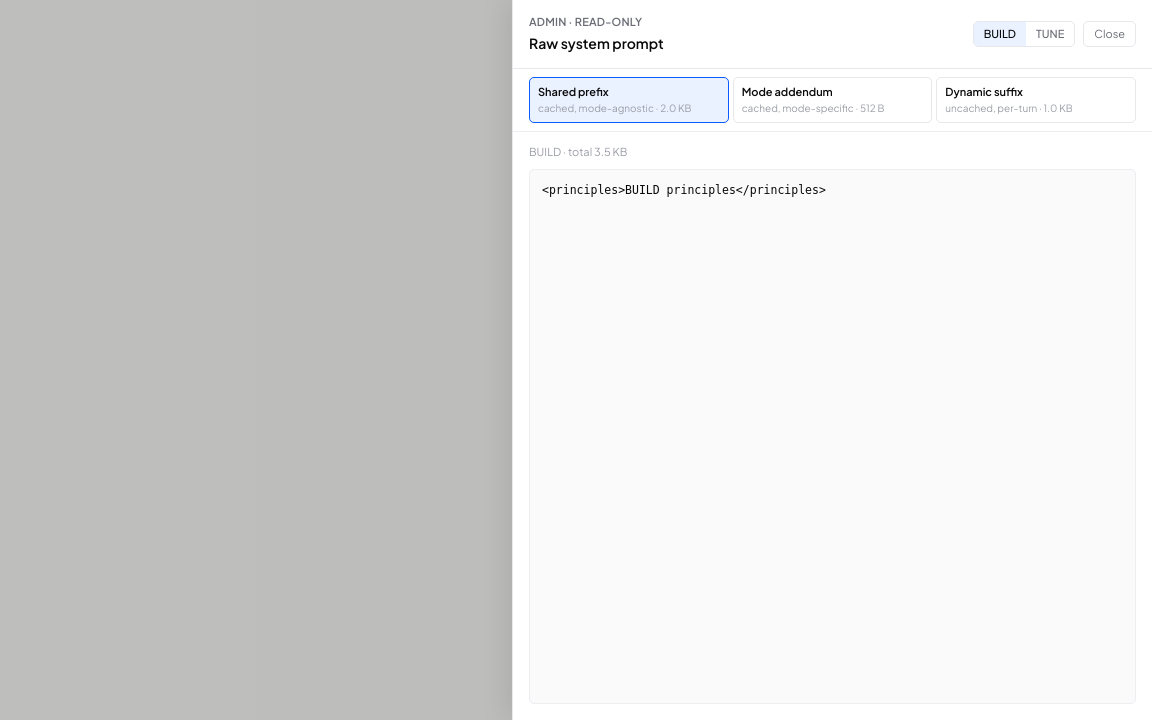
Test case: RawPromptDrawer › re-fetches with mode=TUNE when the mode toggle flips
This screenshot has width=1152, height=720.
Click the tab "TUNE" at [1050, 34], box [1026, 22, 1074, 46]
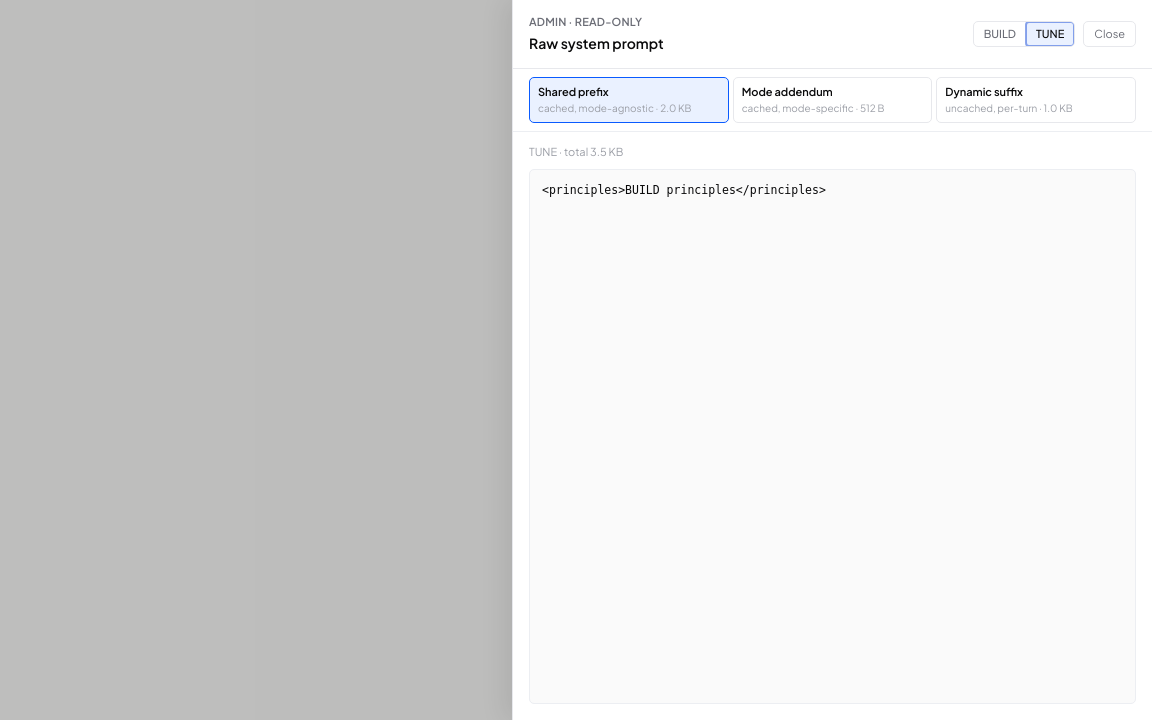
Click the text "Mode addendum" at [787, 92], box [742, 84, 833, 100]
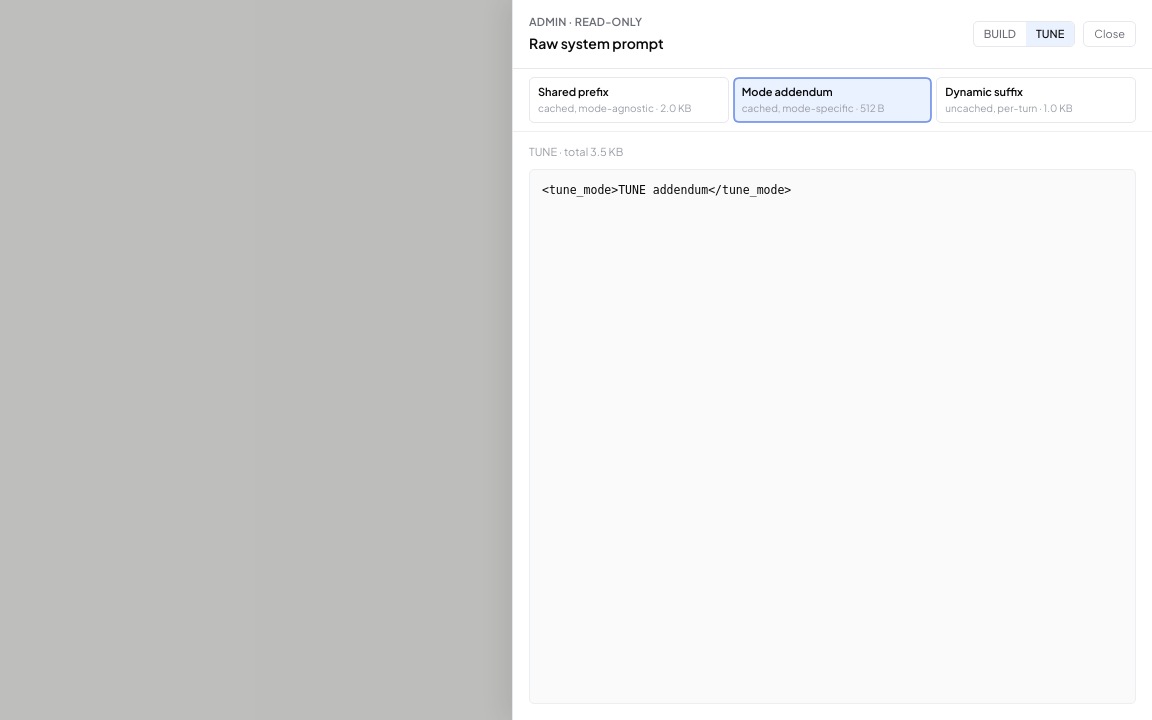
Result: the text "<tune_mode>TUNE addendum</tune_mode>" is shown at [529, 168, 1136, 704]
